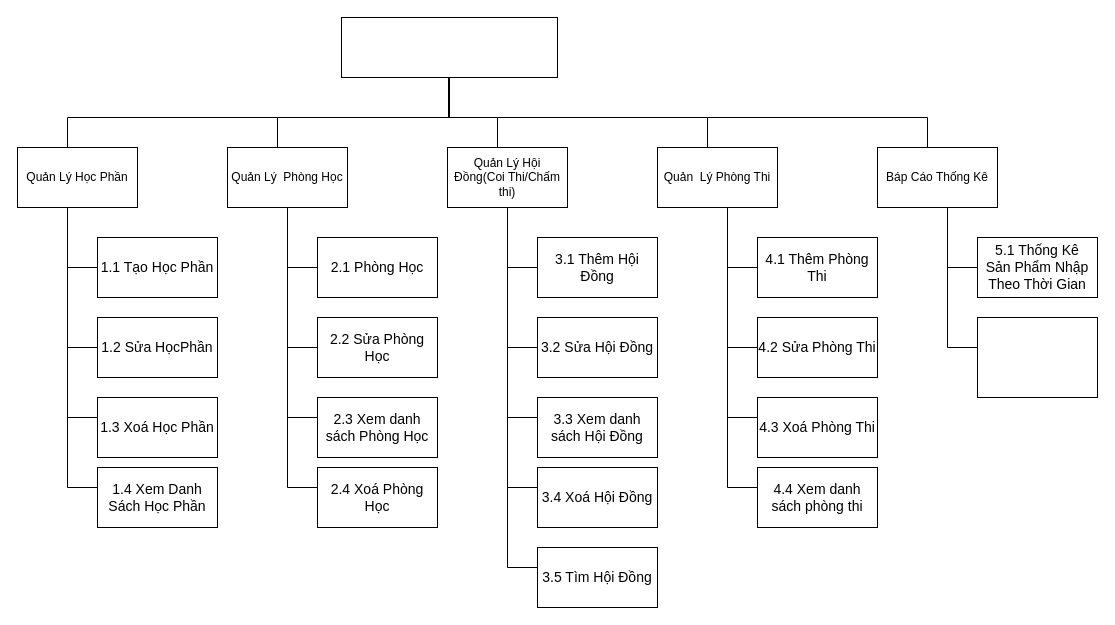
This 1115x625 diagram has some shape labels left out. Each missing label, with the centre of its shape:
"5.2 Thống Kê Sản Phẩm NhậpTheo Nhóm Hàng và Thời Gian" belongs at point 1037,357.
"Quản Lý Phân Công Cán Bộ Coi Thi/Chấm thi" belongs at point 449,47.
